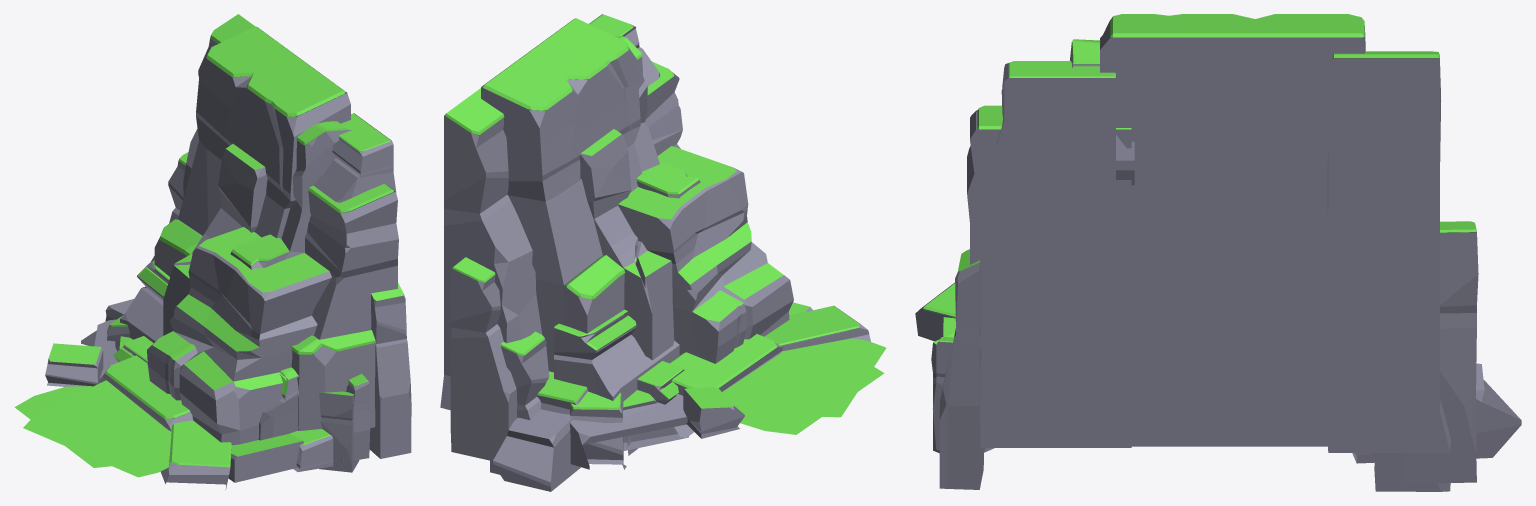
The model's file is cliff.fbx.
The picture shows the model from 3 angles, left to right: view 1: azimuth 30°, elevation 25°; view 2: azimuth 150°, elevation 25°; view 3: azimuth 270°, elevation 25°; orthographic projection. The views are drawn at different scales.
Parts seen in each view (by area): view 1: Cliff; view 2: Cliff; view 3: Cliff.
Part boxes in pixels (x1,y1,x2,y2): Cliff: (14, 14, 411, 489); Cliff: (440, 14, 886, 491); Cliff: (915, 14, 1521, 491).
Size of the model in its own units: 2187 by 2393 by 2710.
